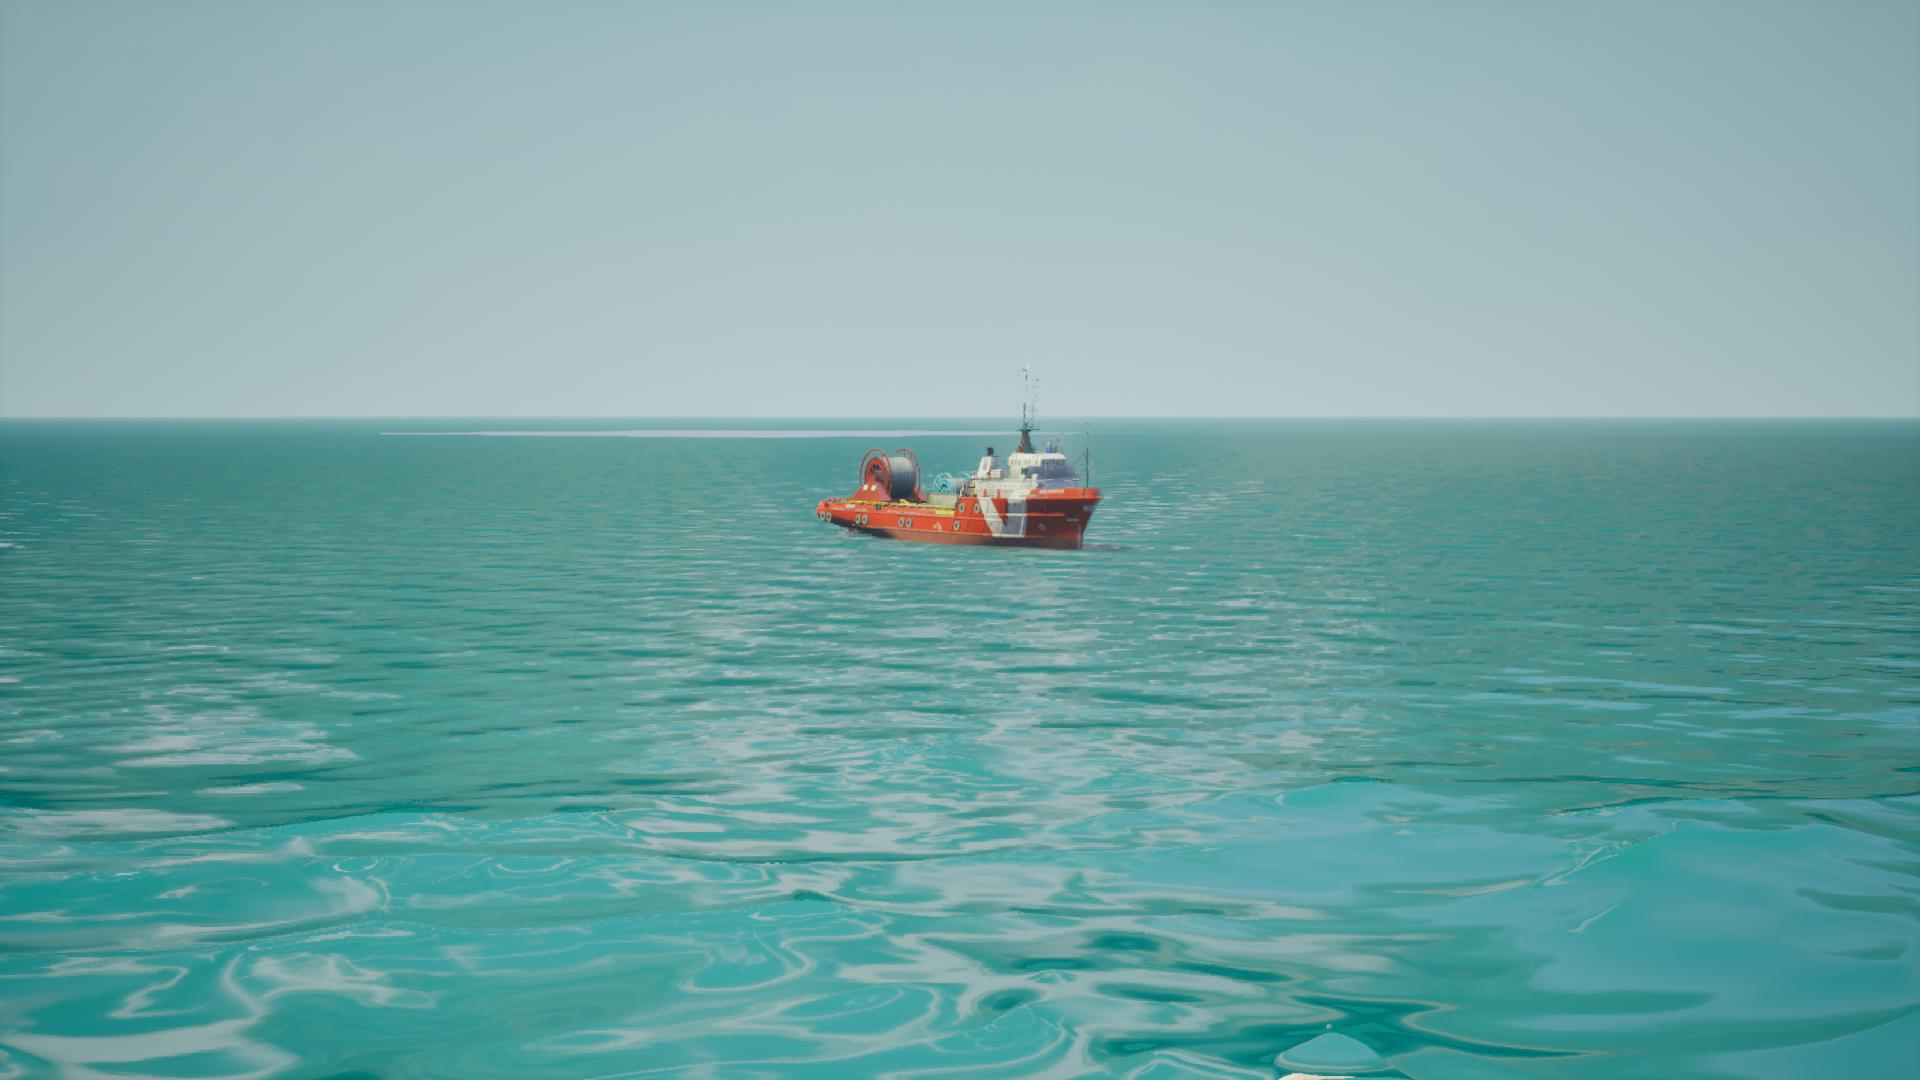Tug Boat: (822, 367, 1102, 551)
